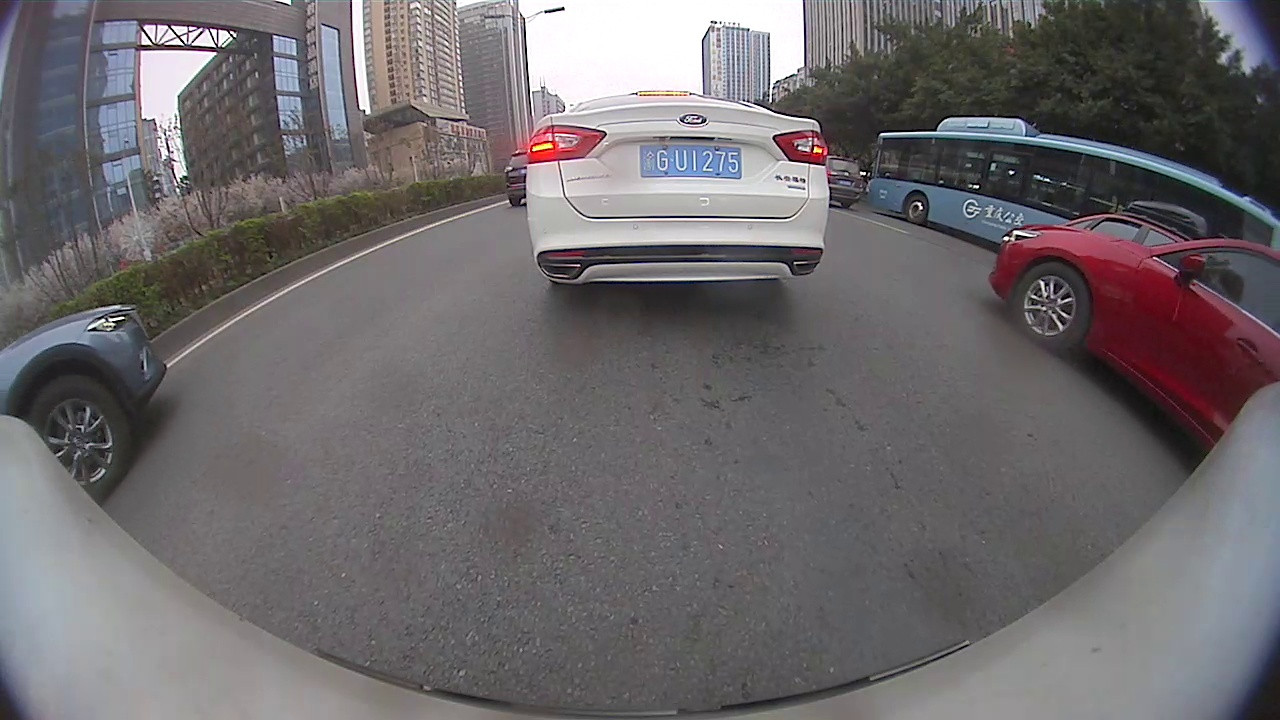bus: (867, 118, 1279, 252)
car: (989, 221, 1279, 454), (528, 92, 829, 285), (0, 300, 168, 500), (1063, 212, 1180, 243), (830, 158, 867, 207), (504, 149, 526, 205)
front: (28, 374, 133, 496), (1009, 263, 1093, 353), (904, 192, 930, 224)
